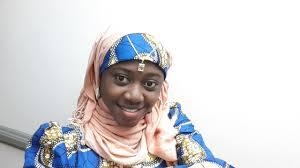No Mask: (93, 45, 173, 135)
